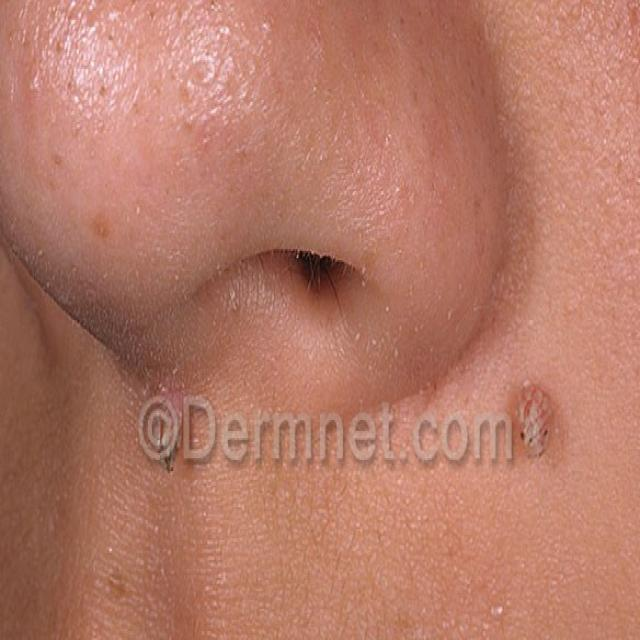Warts: (37, 107, 114, 250), (507, 370, 559, 492)
